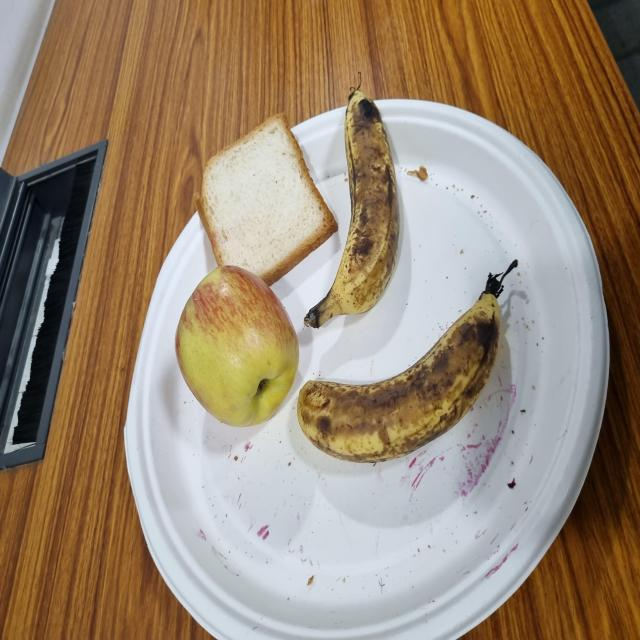apple: (159, 234, 279, 402)
banana: (131, 395, 257, 640), (233, 409, 406, 535)
